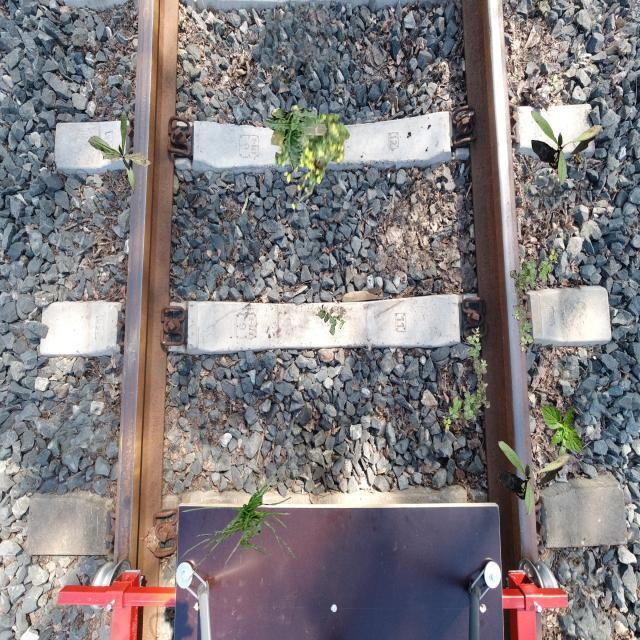Plant: (180, 460, 298, 582), (276, 105, 351, 210), (498, 441, 570, 516), (88, 111, 152, 195), (531, 111, 602, 186), (442, 327, 490, 430), (510, 249, 558, 352), (264, 108, 328, 170), (541, 404, 582, 458), (318, 305, 346, 336)
